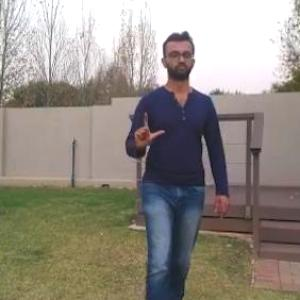land_hand: (129, 107, 167, 150)
